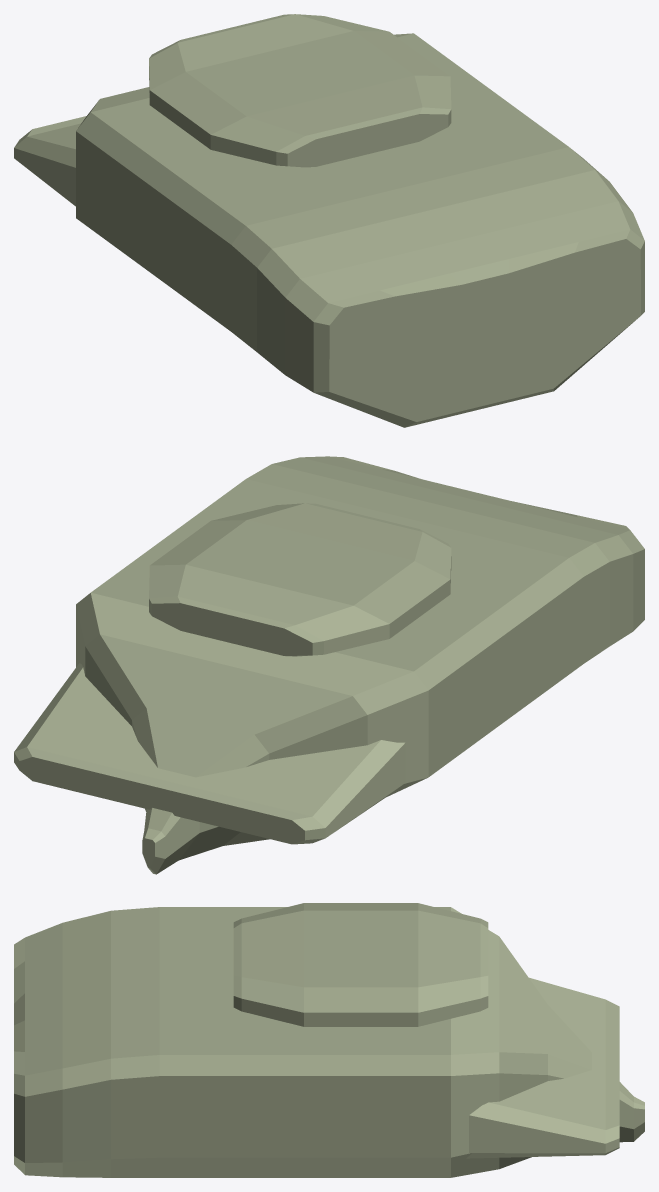
The model's file is hartmann_heavy_b.glb.
The picture shows the model from 3 angles, top to bottom: view 1: azimuth 30°, elevation 25°; view 2: azimuth 150°, elevation 25°; view 3: azimuth 270°, elevation 25°; orthographic projection. The views are drawn at different scales.
Parts seen in each view (by area): view 1: hartmann_heavy_b; view 2: hartmann_heavy_b; view 3: hartmann_heavy_b.
Part boxes in pixels (x1=…): hartmann_heavy_b: x1=14, y1=14, x2=644, y2=427; hartmann_heavy_b: x1=14, y1=456, x2=644, y2=874; hartmann_heavy_b: x1=14, y1=903, x2=644, y2=1177.
Bounding box in the file's own units: 4.6 × 2.55 × 7.6.
